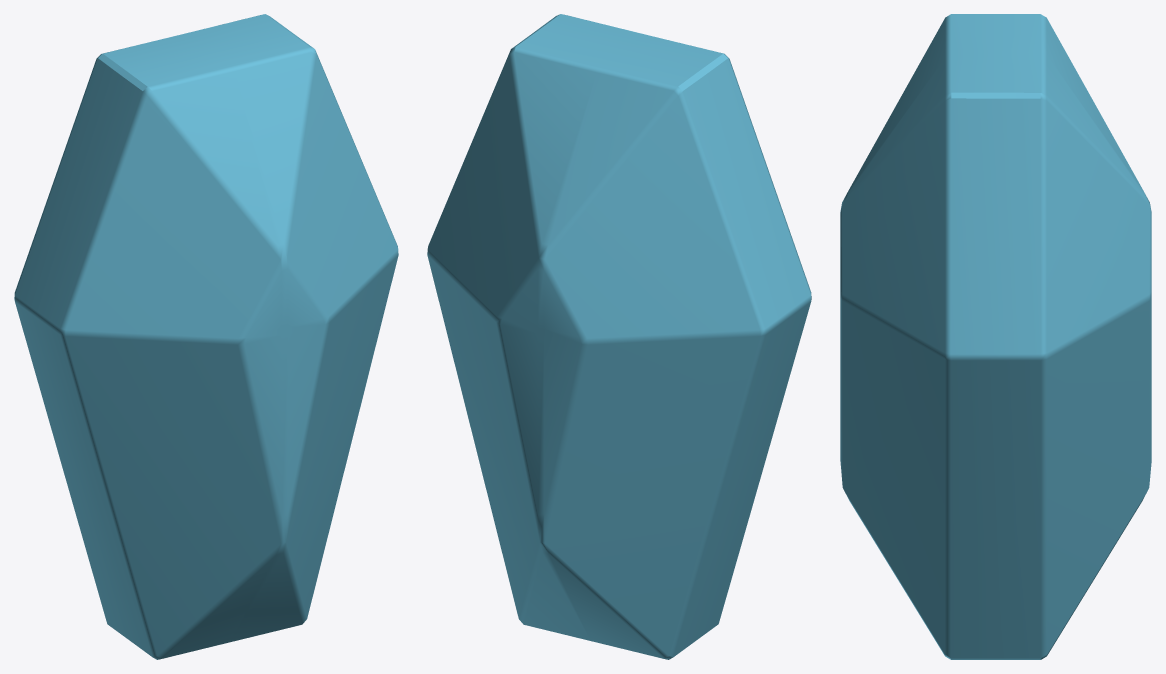
The model's file is SapphireJewel.fbx.
3 views of the same model, side by side, from view 1: azimuth 30°, elevation 25°; view 2: azimuth 150°, elevation 25°; view 3: azimuth 270°, elevation 25° (orthographic).
Visible parts, largest first — view 1: SapphireJewel; view 2: SapphireJewel; view 3: SapphireJewel.
Part boxes in pixels (x1,y1,x2,y2): SapphireJewel: [14, 14, 398, 659]; SapphireJewel: [427, 14, 811, 659]; SapphireJewel: [840, 14, 1151, 659].
Size of the model in its own units: 85.52 by 139 by 68.73.
